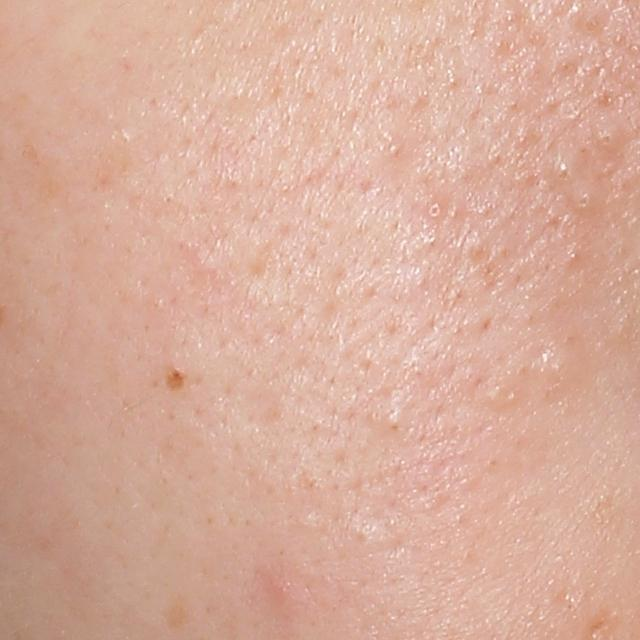comedo: (550, 150, 580, 186), (591, 122, 626, 152), (571, 184, 598, 216), (421, 192, 447, 223), (379, 406, 404, 432)
nevus: (163, 365, 187, 392)
